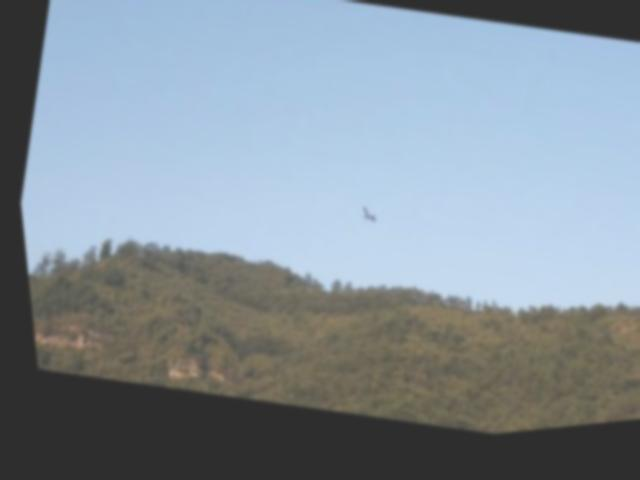uav: (352, 208, 377, 234)
